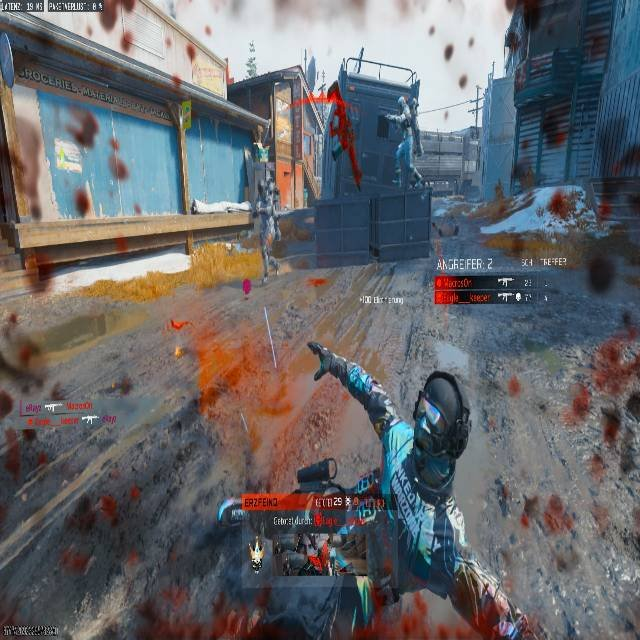head: (412, 374, 471, 458)
player: (384, 95, 423, 188), (254, 177, 280, 283), (191, 199, 198, 213)
